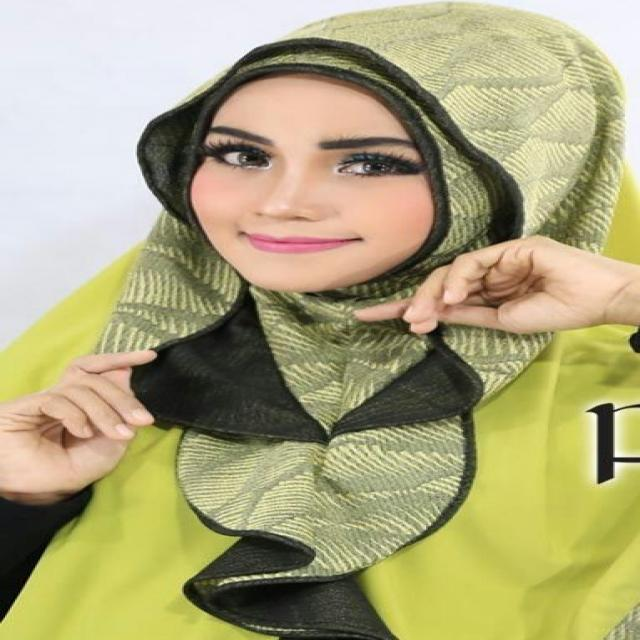head: (128, 5, 640, 301)
